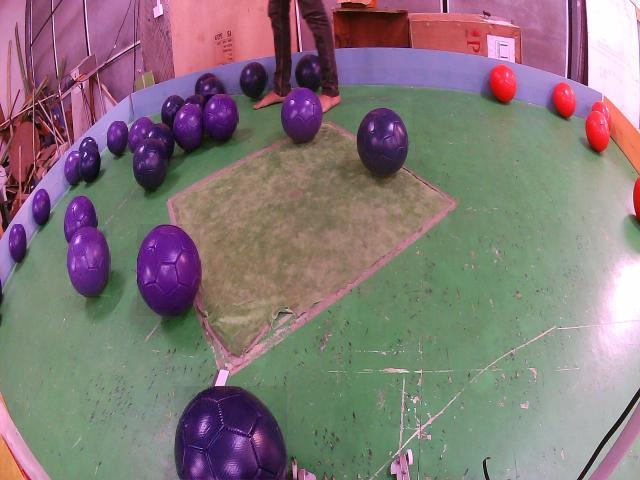jambhalya: (137, 225, 200, 316), (67, 226, 110, 296), (282, 89, 322, 143), (204, 95, 238, 141), (65, 195, 97, 243), (173, 105, 205, 151), (128, 117, 153, 153), (107, 122, 128, 154), (33, 188, 50, 225), (9, 225, 26, 261), (64, 152, 81, 184)
kaalyya: (175, 386, 287, 479), (356, 108, 409, 176), (132, 136, 168, 189), (145, 124, 175, 159), (295, 53, 321, 92), (240, 62, 267, 98), (161, 95, 184, 130), (79, 147, 101, 182), (200, 77, 226, 103), (182, 94, 208, 113), (195, 72, 215, 92), (79, 137, 97, 153)
